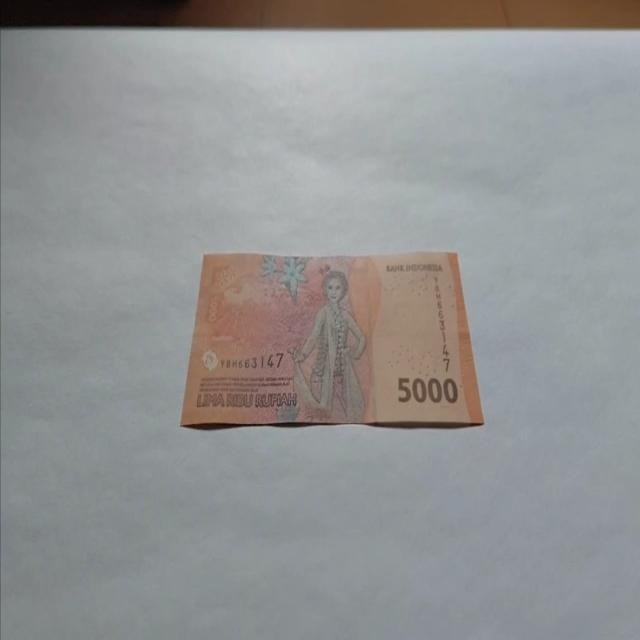lima ribu rupiah: (179, 248, 484, 430), (287, 266, 367, 424)
